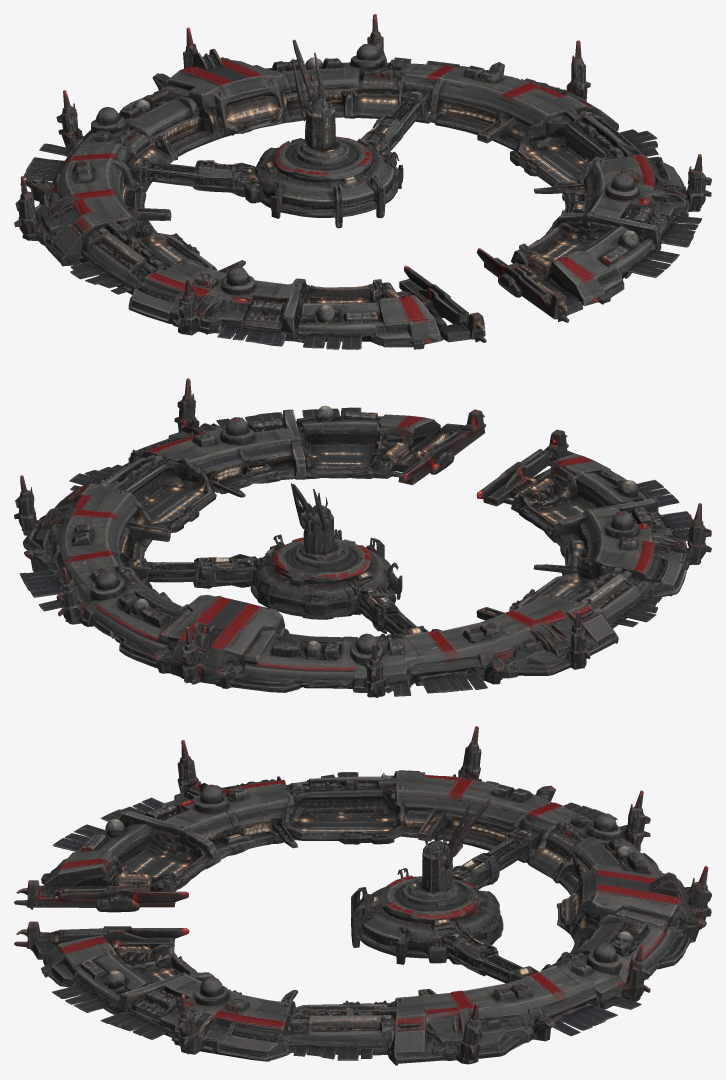
Rendered from headquarters.glb.
3 renders of one model, top to bottom at view 1: azimuth 30°, elevation 25°; view 2: azimuth 150°, elevation 25°; view 3: azimuth 270°, elevation 25°, orthographic. The views are drawn at different scales.
Visible parts, largest first — view 1: Mesh_0; view 2: Mesh_0; view 3: Mesh_0.
Boxes of the visible parts, x1=… form: Mesh_0: x1=14, y1=14, x2=711, y2=349; Mesh_0: x1=14, y1=378, x2=711, y2=697; Mesh_0: x1=14, y1=726, x2=711, y2=1065.
Bounding box in the file's own units: 1.86 × 0.4142 × 1.9.
Materials: 1 (1 with a texture image).
